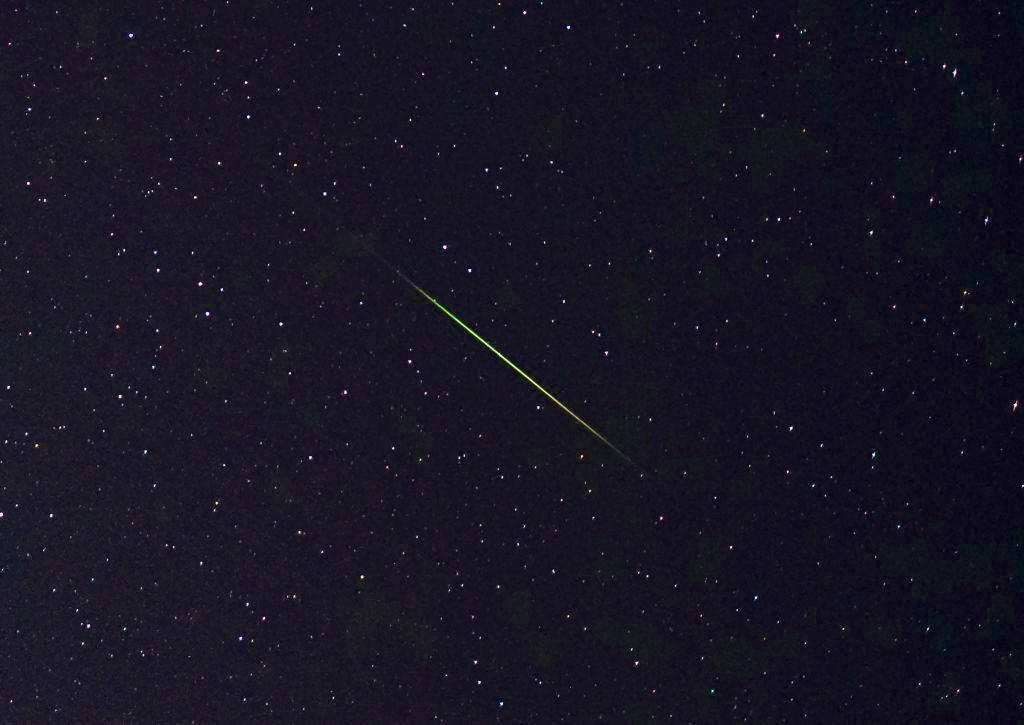meteorite: (377, 252, 630, 480)
